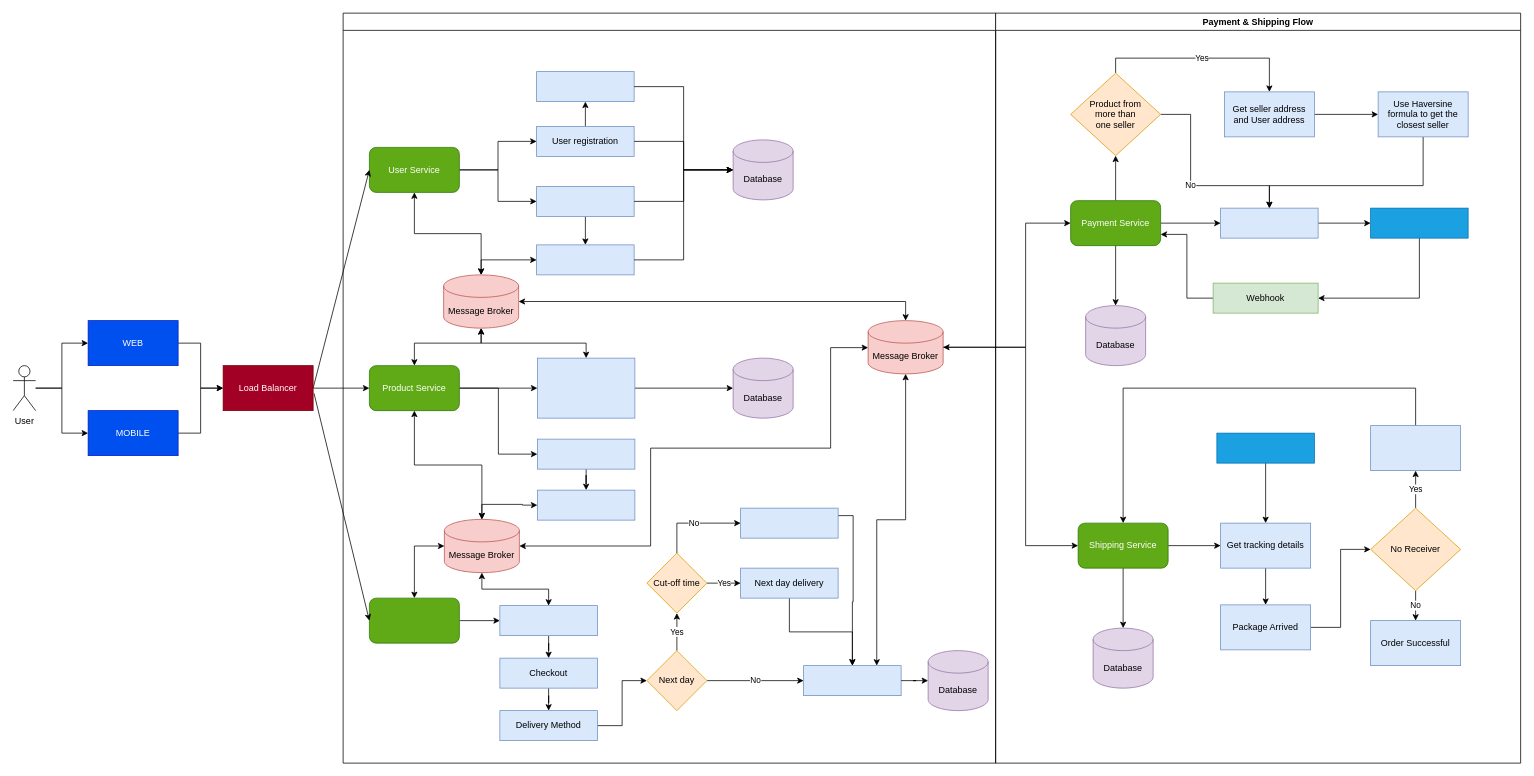
The diagram is 1534 pixels wide and 776 high, and some of its shapes have lost their labels. The shapes that lost their labels are listed below. From the top down, each one's box as (x1, y1, x2, y2) in pixels, then its label:
(536, 71, 634, 102): Add address
(536, 186, 634, 216): Seller registration
(1220, 207, 1318, 238): Payment Gateway
(1370, 207, 1468, 238): Midtrans / Xendit
(536, 244, 634, 275): Create store and complete address
(537, 357, 635, 418): Add products and its details such as name, price and selling area
(342, 12, 996, 763): User, Product & Order Flow
(537, 438, 635, 469): Search Product
(1216, 432, 1314, 463): Third Party Courier
(1370, 425, 1461, 471): Order Cancelled
(537, 489, 635, 520): Product Detail
(740, 507, 838, 538): The day after tomorrow delivery
(369, 597, 459, 643): Order Service
(499, 605, 597, 636): Add to Cart
(803, 665, 901, 696): Payment Flow
